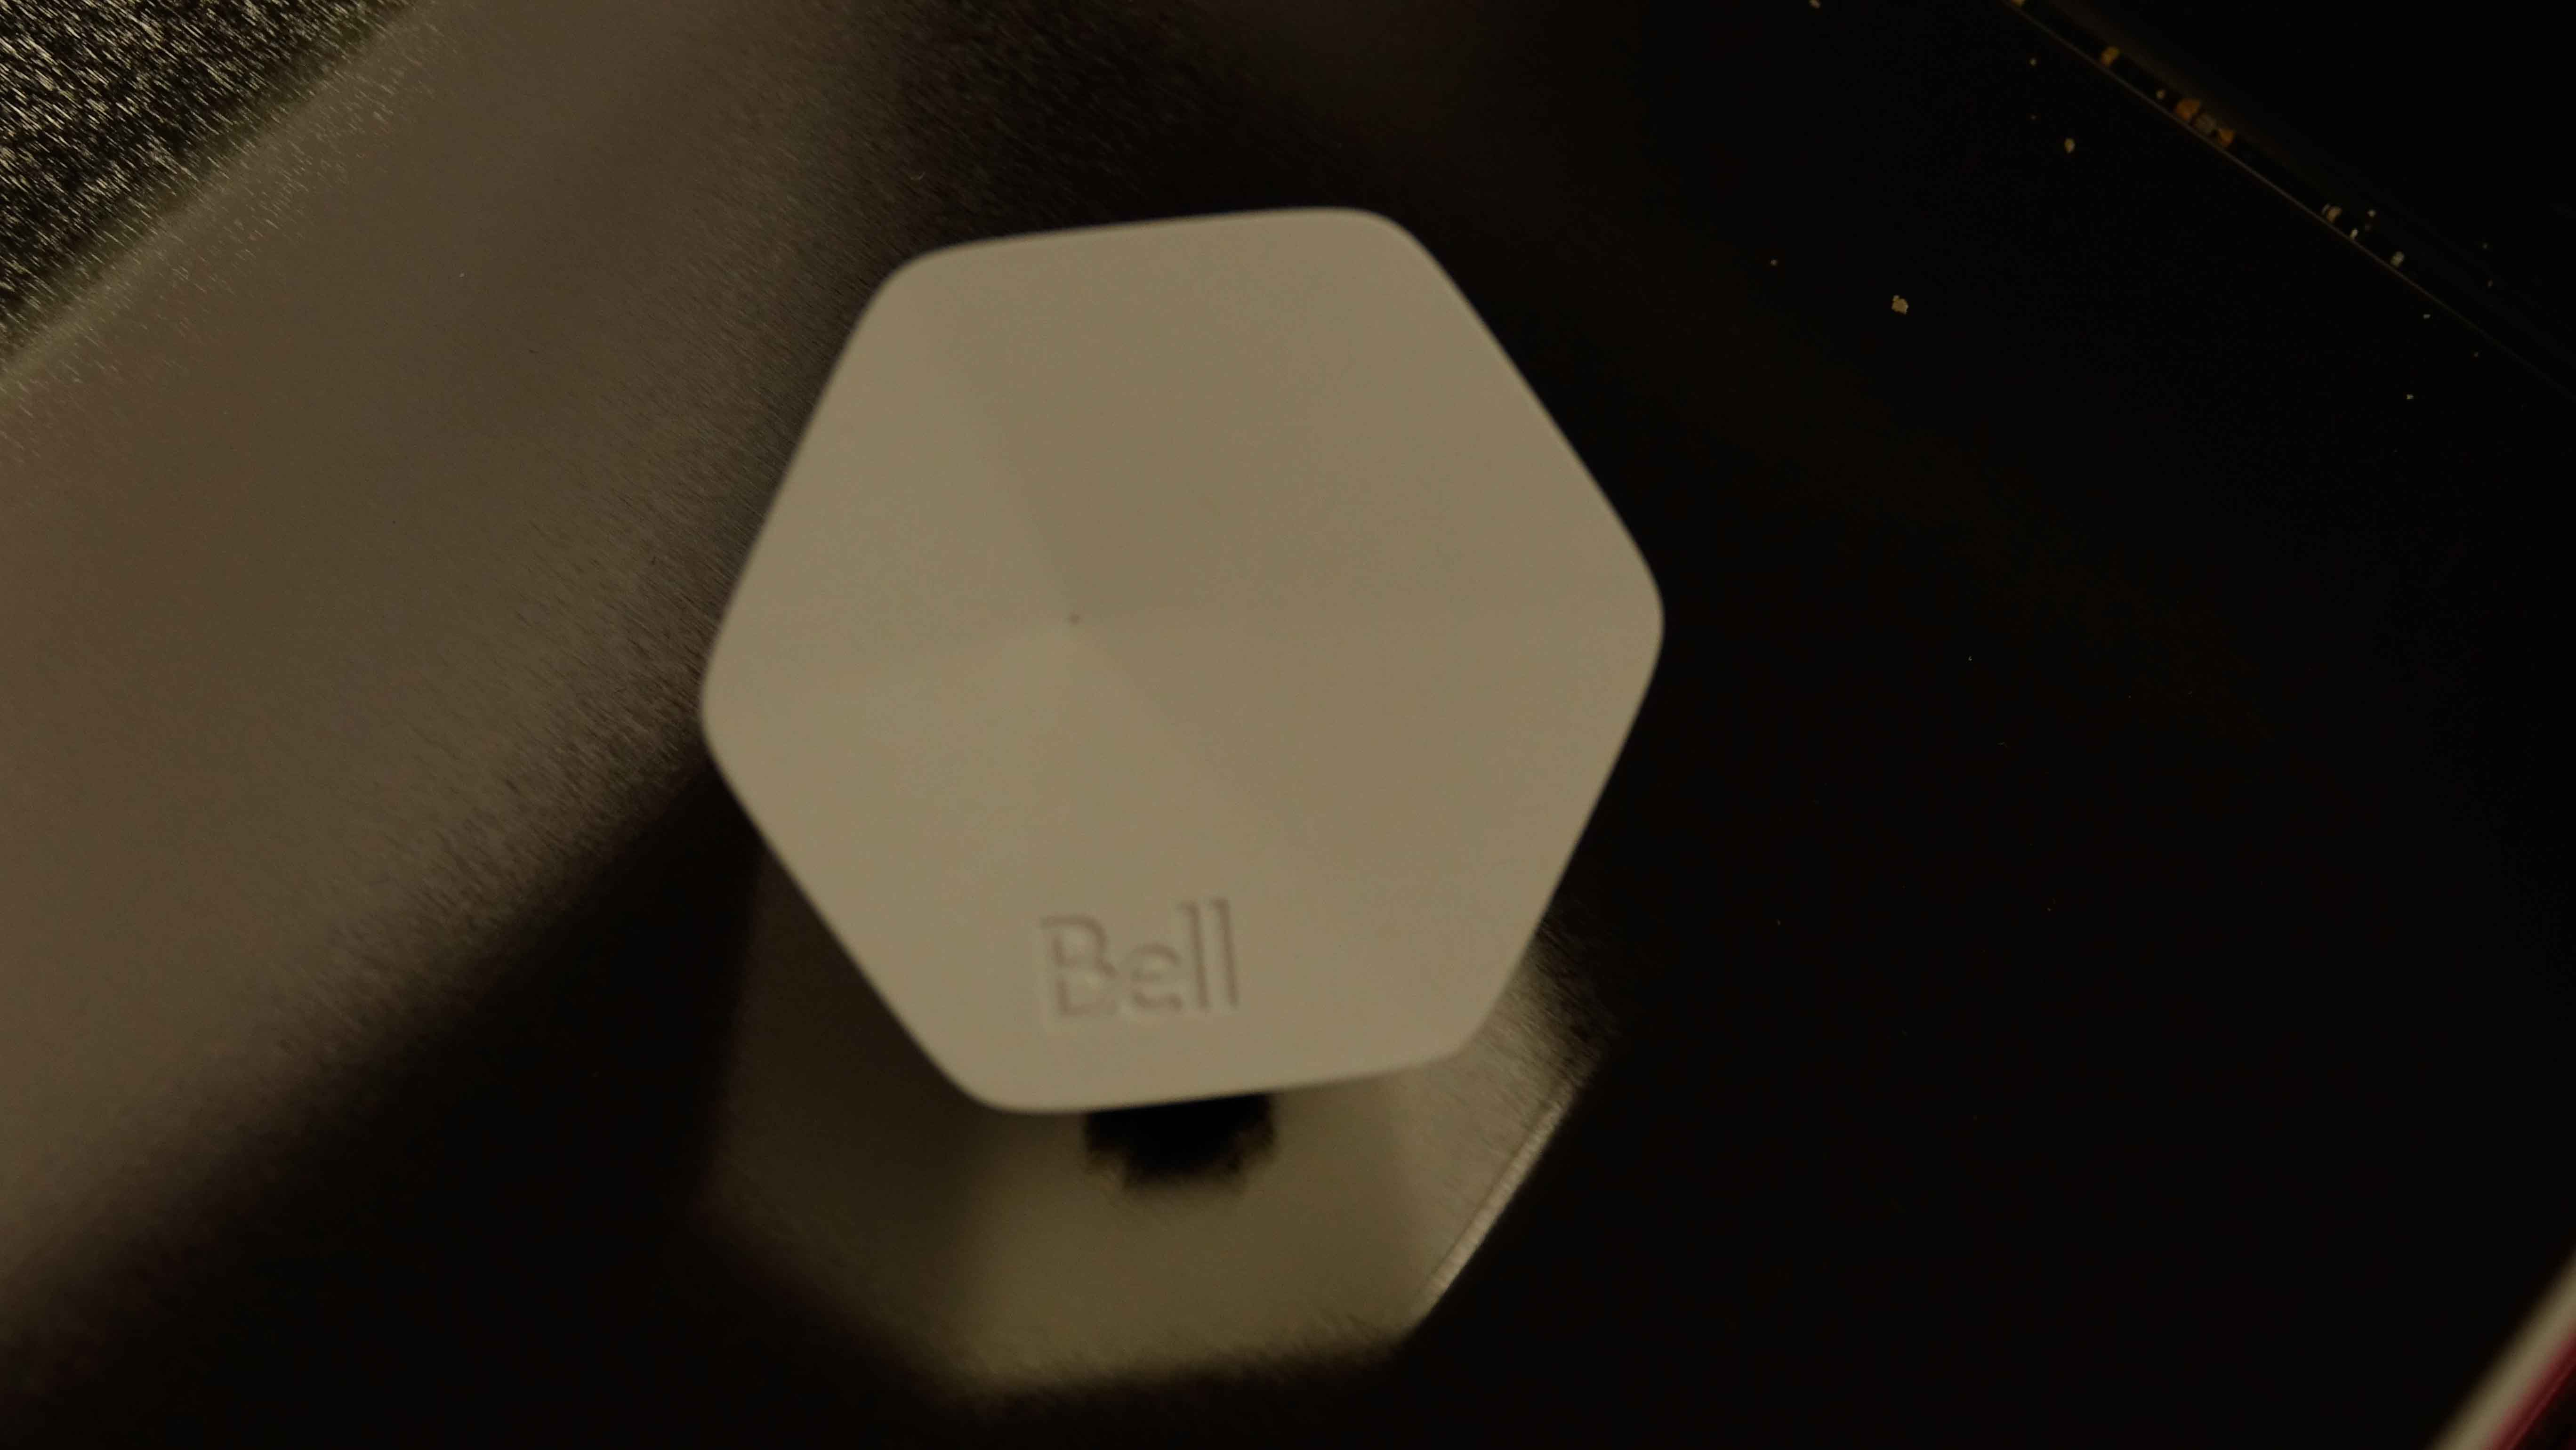pod: (676, 202, 1684, 1126)
